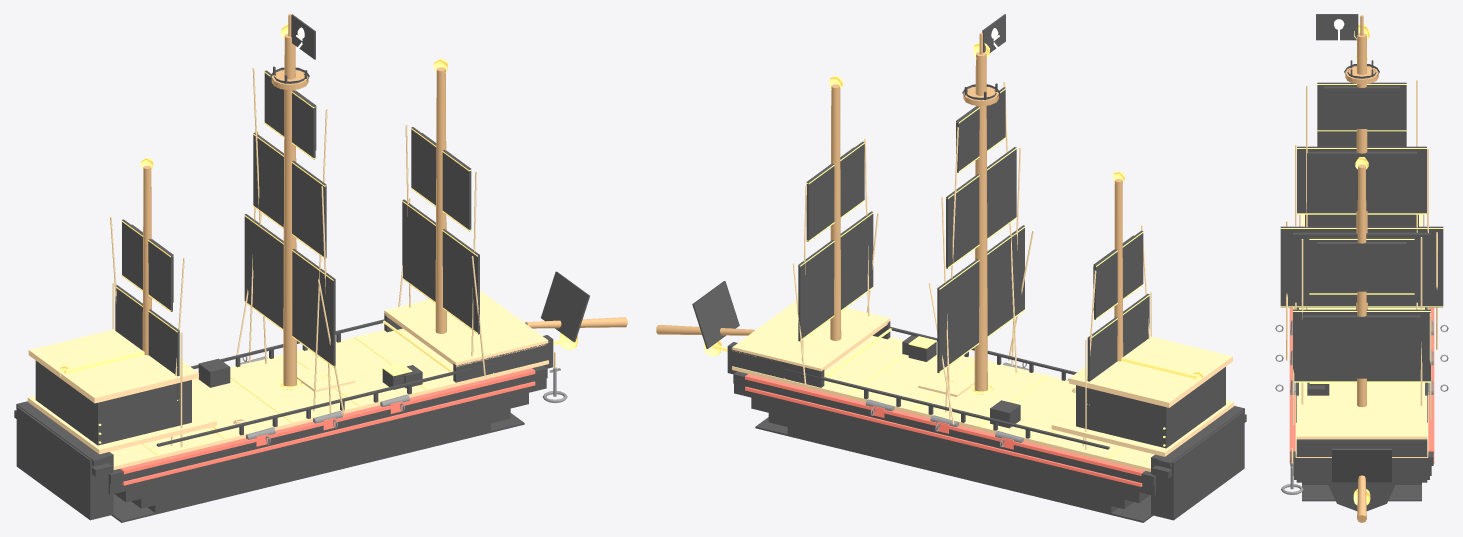
File: 06_shipwreck-shore.glb
3 renders of one model, left to right at view 1: azimuth 30°, elevation 25°; view 2: azimuth 150°, elevation 25°; view 3: azimuth 270°, elevation 25°, orthographic. The views are drawn at different scales.
Parts seen in each view (by area): view 1: sail, hull_dark, deck, mast, hull_plank, red_band, rope, gold, cannon; view 2: sail, hull_dark, deck, mast, hull_plank, red_band, gold, rope, cannon; view 3: sail, deck, hull_dark, mast, rope, gold, red_band, hull_plank, flag, cannon.
Boxes of the visible parts, <box> form: sail: <box>115,70,589,401</box>; hull_dark: <box>16,66,553,522</box>; deck: <box>27,290,548,469</box>; mast: <box>142,14,627,390</box>; hull_plank: <box>14,319,547,484</box>; red_band: <box>120,368,535,485</box>; rope: <box>110,67,555,447</box>; gold: <box>59,24,577,455</box>; cannon: <box>240,356,567,444</box>; sail: <box>692,87,1149,405</box>; hull_dark: <box>727,83,1244,522</box>; deck: <box>732,299,1233,471</box>; mast: <box>656,33,1123,394</box>; hull_plank: <box>733,327,1246,485</box>; red_band: <box>745,374,1145,486</box>; gold: <box>704,42,1226,457</box>; rope: <box>792,81,1151,449</box>; cannon: <box>865,362,1068,447</box>; sail: <box>1280,82,1443,482</box>; deck: <box>1295,214,1428,457</box>; hull_dark: <box>1293,60,1431,510</box>; mast: <box>1345,15,1378,522</box>; rope: <box>1286,80,1437,463</box>; gold: <box>1280,24,1443,505</box>; red_band: <box>1289,307,1434,463</box>; hull_plank: <box>1290,307,1433,465</box>; flag: <box>1316,14,1358,40</box>; cannon: <box>1275,320,1448,494</box>.
Size of the model in its own units: 34.1 by 25.35 by 9.82.
